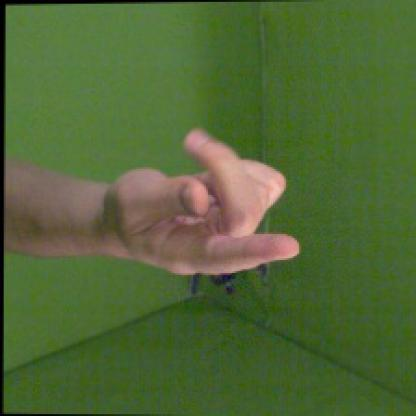Hand: (106, 128, 300, 274)
